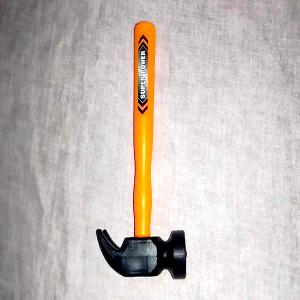martelo: (96, 21, 187, 280)
